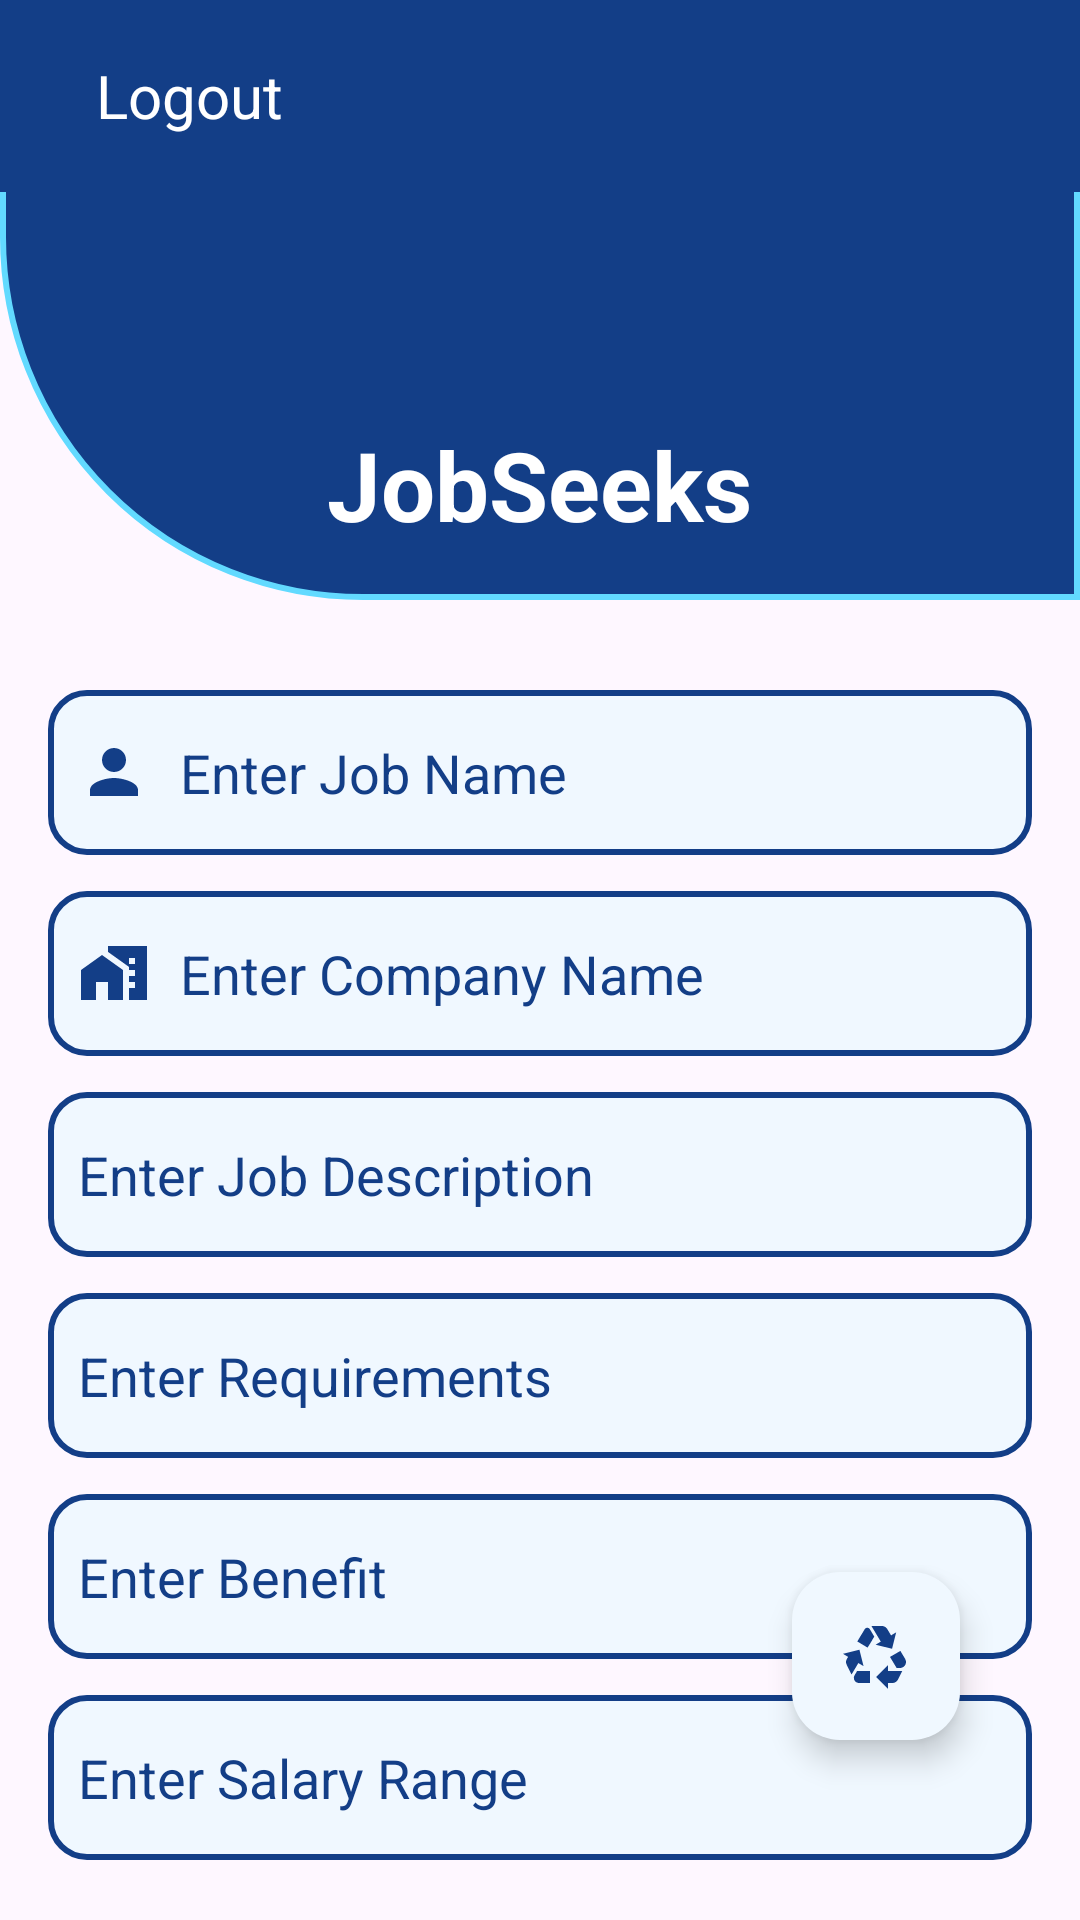

Screen size 1080 × 1920. Icon name, then its box in pixels as (x1, y1, x2, y2):
recycling: (843, 1626, 906, 1689)
